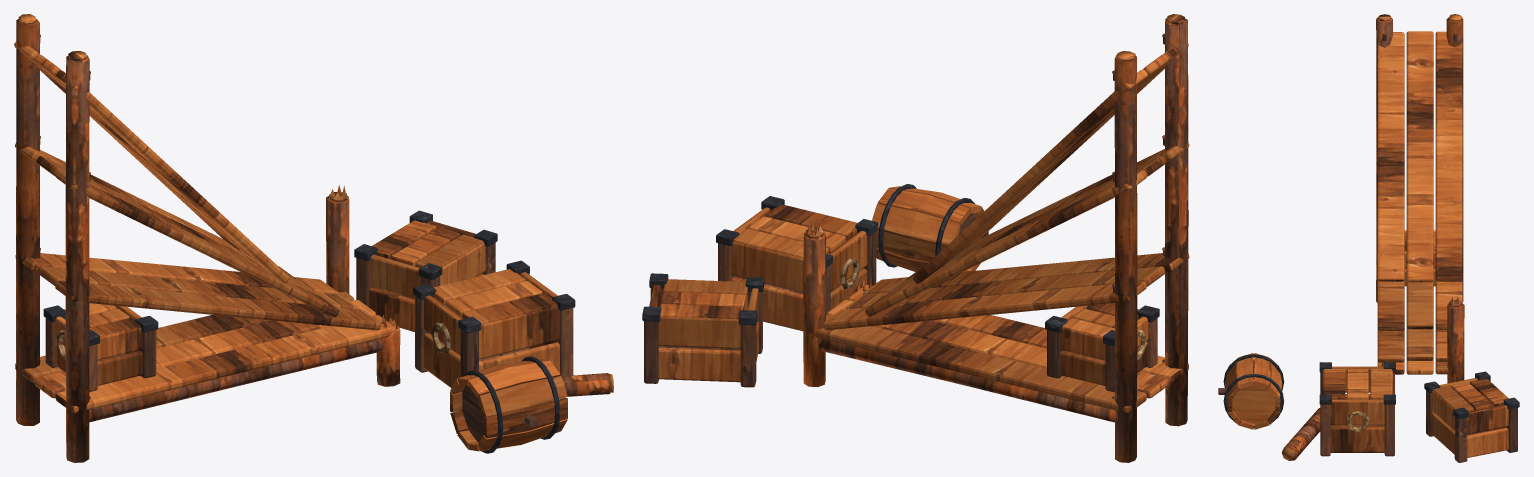
Rendered from mg_collapsed_shelf.glb.
3 views of the same model, side by side, from view 1: azimuth 30°, elevation 25°; view 2: azimuth 150°, elevation 25°; view 3: azimuth 270°, elevation 25° (orthographic). The views are drawn at different scales.
Parts seen in each view (by area): view 1: model; view 2: model; view 3: model.
Part boxes in pixels (box(x1,y1,x2,y2)): model: box(14, 14, 613, 462); model: box(642, 14, 1189, 462); model: box(1218, 14, 1519, 462).
Size of the model in its own units: 1.9 by 1.51 by 1.45.
Materials: 15 (15 with a texture image).
